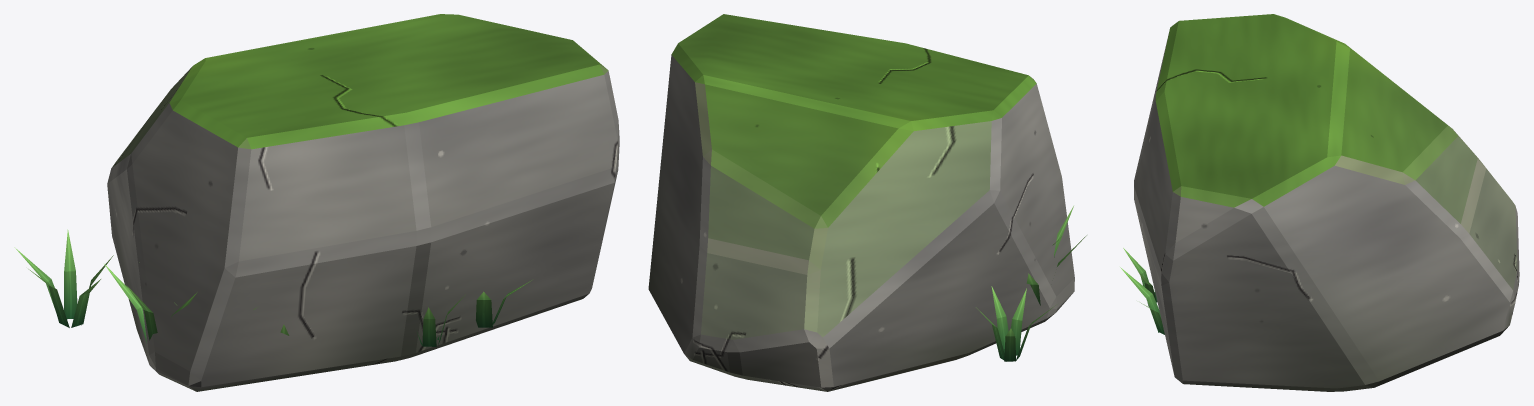
File: boulder_3.glb
3 renders of one model, left to right at view 1: azimuth 30°, elevation 25°; view 2: azimuth 150°, elevation 25°; view 3: azimuth 270°, elevation 25°, orthographic. The views are drawn at different scales.
Parts seen in each view (by area): view 1: boulder_3_rock, boulder_3_weeds; view 2: boulder_3_rock, boulder_3_weeds; view 3: boulder_3_rock, boulder_3_weeds.
Part boxes in pixels (left/top/right/bottom): boulder_3_rock: left=107, top=14, right=619, bottom=391; boulder_3_weeds: left=14, top=229, right=531, bottom=346; boulder_3_rock: left=648, top=14, right=1074, bottom=391; boulder_3_weeds: left=976, top=206, right=1086, bottom=361; boulder_3_rock: left=1134, top=14, right=1519, bottom=391; boulder_3_weeds: left=1120, top=248, right=1164, bottom=334.
Size of the model in its own units: 1.86 by 0.989 by 1.45.
Materials: 2 (2 with a texture image).
